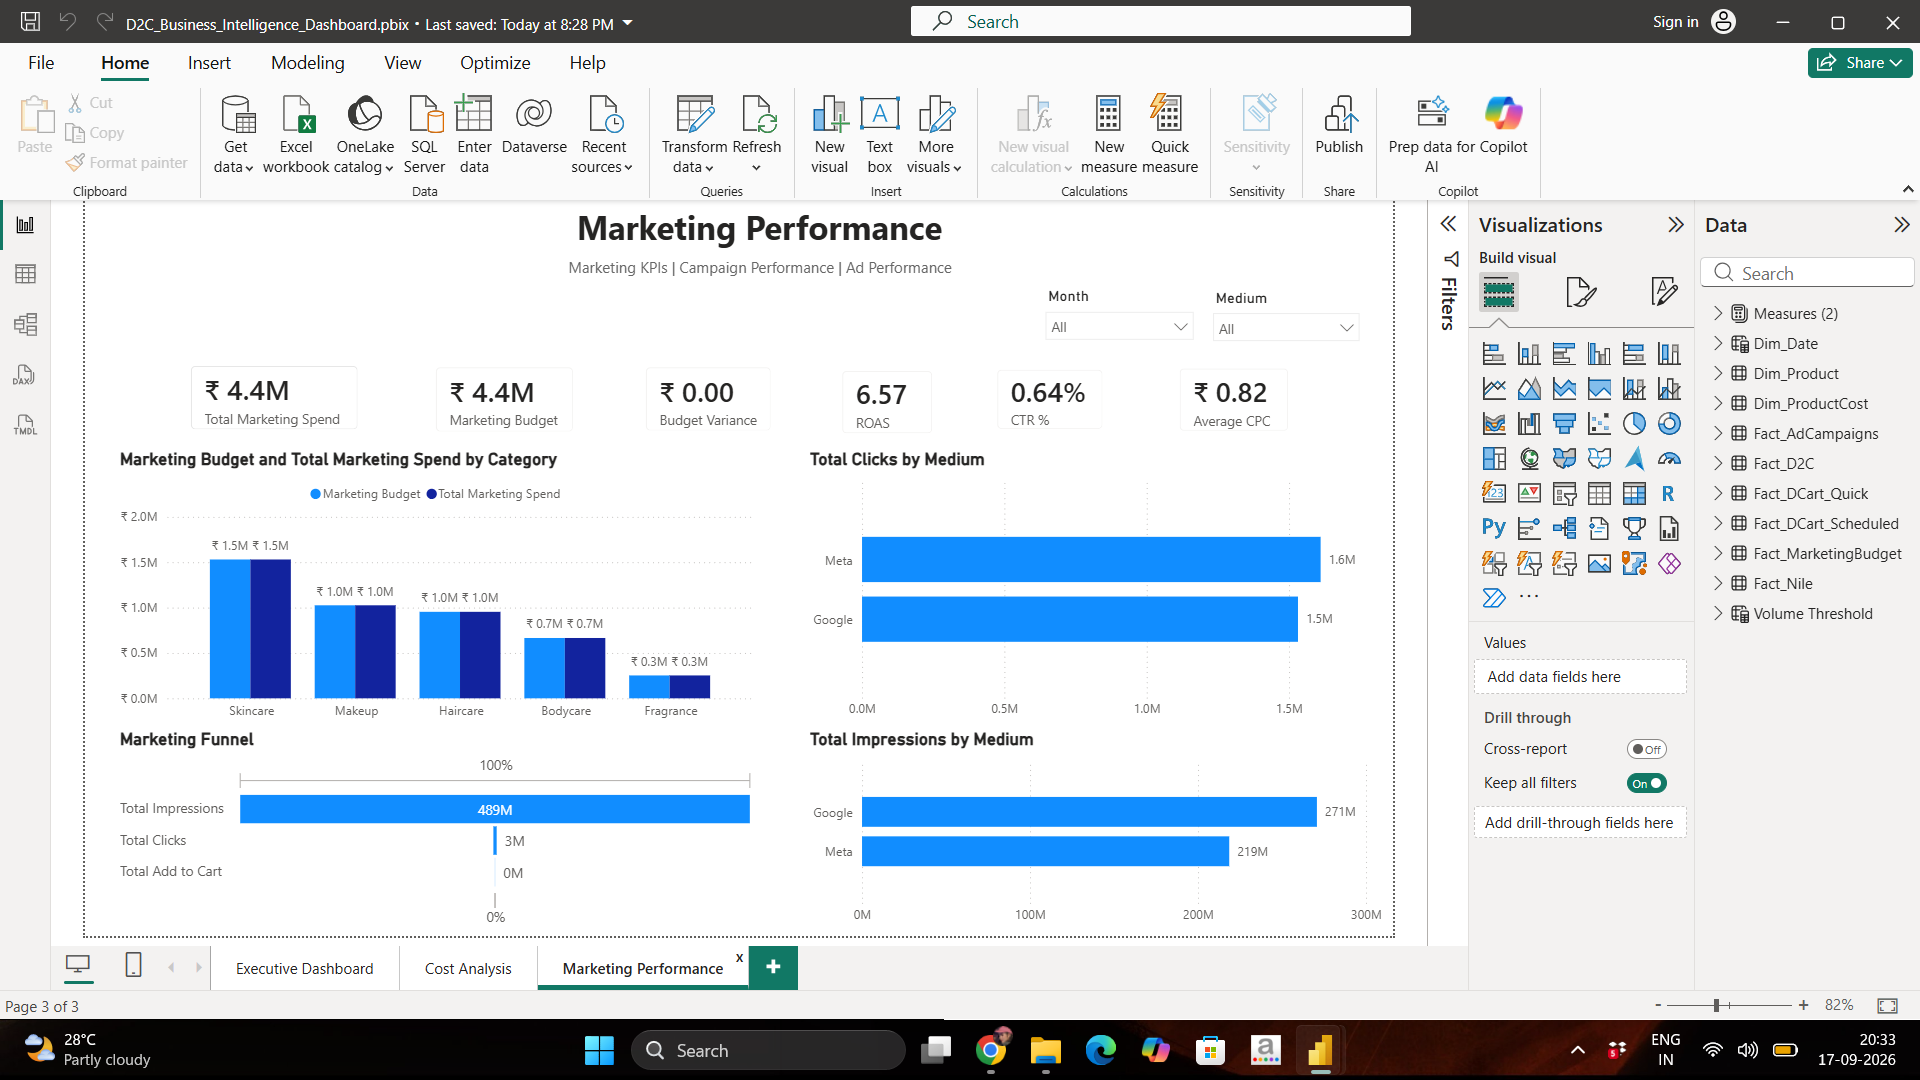

Layout of this report page (visuals, bound fields, positions):
{"tool":"powerbi","page":{"name":"Marketing Performance","canvas":[1280,720],"ordinal":2},"visuals":[{"type":"cardVisual","fields":{"Data":["Measures (2).Total Marketing Spend"]},"box":[86.2,145,197.5,96.2],"z":0},{"type":"cardVisual","fields":{"Data":["Measures (2).Marketing Budget"]},"box":[326.2,146.2,168.8,97.5],"z":1000},{"type":"cardVisual","fields":{"Data":["Measures (2).Budget Variance"]},"box":[532.5,146.2,156.2,96.2],"z":2000},{"type":"cardVisual","fields":{"Data":["Measures (2).ROAS"]},"box":[723.8,150,122.5,95],"z":3000},{"type":"cardVisual","fields":{"Data":["Measures (2).CTR %"]},"box":[875,148.8,137.5,92.5],"z":4000},{"type":"cardVisual","fields":{"Data":["Measures (2).Average CPC"]},"box":[1053.8,147.5,140,95],"z":5000},{"type":"textbox","box":[375,0,568.8,65],"z":6000},{"type":"textbox","box":[342.5,50,636.2,30],"z":7000},{"type":"clusteredColumnChart","fields":{"Category":["Fact_MarketingBudget.Category"],"Y":["Measures (2).Marketing Budget","Measures (2).Total Marketing Spend"]},"box":[28.8,243.8,631.2,273.8],"z":8000},{"type":"clusteredBarChart","title":"Total Clicks by Medium","fields":{"Category":["Fact_AdCampaigns.Medium"],"Y":["Measures (2).Total Clicks"]},"box":[703.8,243.8,576.2,272.5],"z":9000},{"type":"clusteredBarChart","fields":{"Category":["Fact_AdCampaigns.Medium"],"Y":["Measures (2).Total Impressions"]},"box":[703.8,517.5,570,200],"z":10000},{"type":"funnel","title":"Marketing Funnel","fields":{"Y":["Measures (2).Total Impressions","Measures (2).Total Clicks","Measures (2).Total Add to Cart"]},"box":[28.8,517.5,631.2,200],"z":11000},{"type":"slicer","fields":{"Values":["Dim_Date.Month Name"]},"box":[928.8,81.2,165,63.8],"z":12000},{"type":"slicer","fields":{"Values":["Fact_AdCampaigns.Medium"]},"box":[1093.8,82.5,163.8,62.5],"z":13000}]}

Visuals, with their boxes on the page's 1280x720 design canvas (x1, y1, x2, y2). These are canvas units, not pixel positions in the 1920x1080 screenshot, which may show the page scaled, cropped or inside an application window:
cardVisual - Measures (2).Total Marketing Spend: left=86, top=145, right=284, bottom=241
cardVisual - Measures (2).Marketing Budget: left=326, top=146, right=495, bottom=244
cardVisual - Measures (2).Budget Variance: left=532, top=146, right=689, bottom=242
cardVisual - Measures (2).ROAS: left=724, top=150, right=846, bottom=245
cardVisual - Measures (2).CTR %: left=875, top=149, right=1012, bottom=241
cardVisual - Measures (2).Average CPC: left=1054, top=148, right=1194, bottom=242
textbox: left=375, top=0, right=944, bottom=65
textbox: left=342, top=50, right=979, bottom=80
clusteredColumnChart - Fact_MarketingBudget.Category x Measures (2).Marketing Budget: left=29, top=244, right=660, bottom=518
"Total Clicks by Medium" clusteredBarChart: left=704, top=244, right=1280, bottom=516
clusteredBarChart - Fact_AdCampaigns.Medium x Measures (2).Total Impressions: left=704, top=518, right=1274, bottom=718
"Marketing Funnel" funnel: left=29, top=518, right=660, bottom=718
slicer - Dim_Date.Month Name: left=929, top=81, right=1094, bottom=145
slicer - Fact_AdCampaigns.Medium: left=1094, top=82, right=1258, bottom=145
